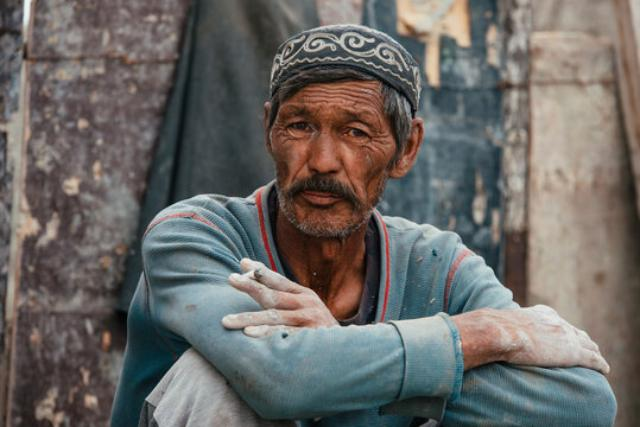crows_feet: (367, 127, 389, 149), (272, 117, 288, 138)
forehead: (352, 82, 373, 110), (302, 84, 324, 104), (328, 84, 348, 106)
gummy_smile: (289, 156, 307, 182), (339, 160, 355, 186)
